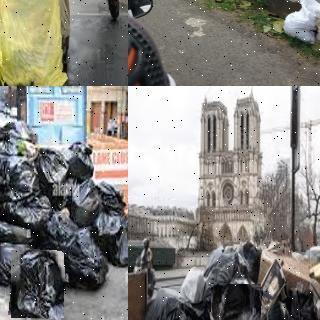Garbage: (0, 0, 66, 86), (10, 249, 66, 319), (57, 227, 113, 291), (210, 283, 262, 320), (0, 195, 52, 231), (281, 0, 320, 44), (0, 241, 39, 284), (33, 145, 71, 188), (62, 140, 98, 182), (69, 179, 101, 225), (100, 214, 128, 266), (180, 265, 205, 301)
